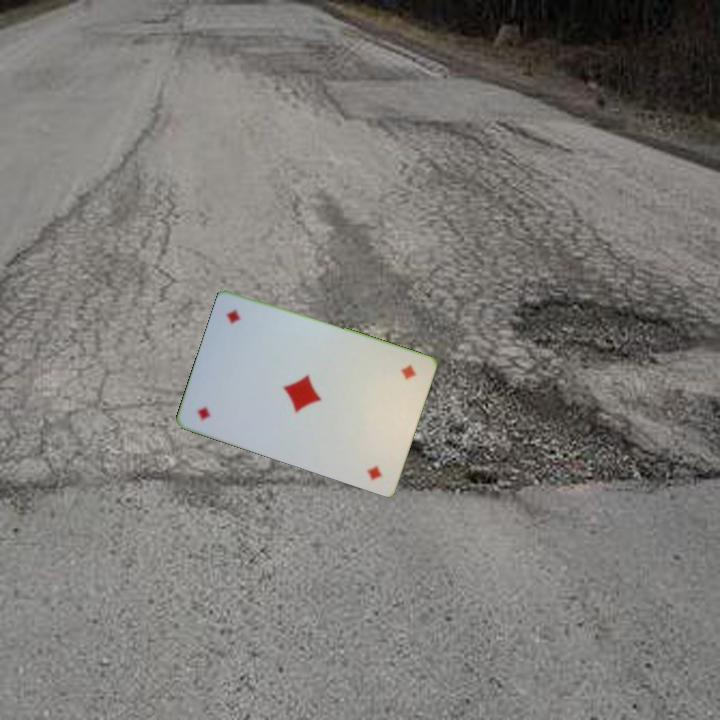d_a.png: (351, 347, 426, 428), (187, 357, 261, 437)
